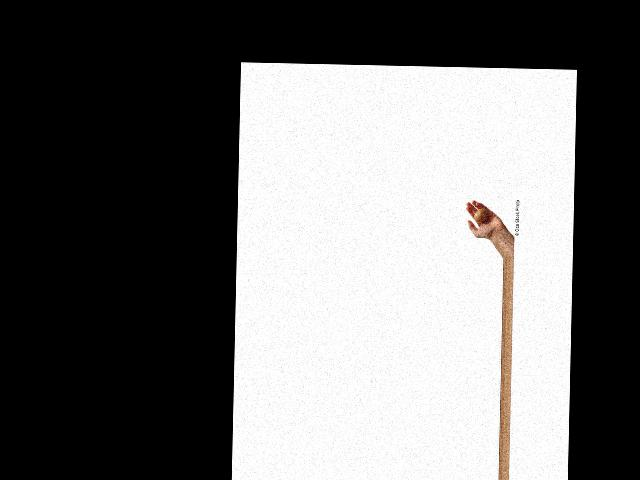egg: (474, 208, 488, 221)
